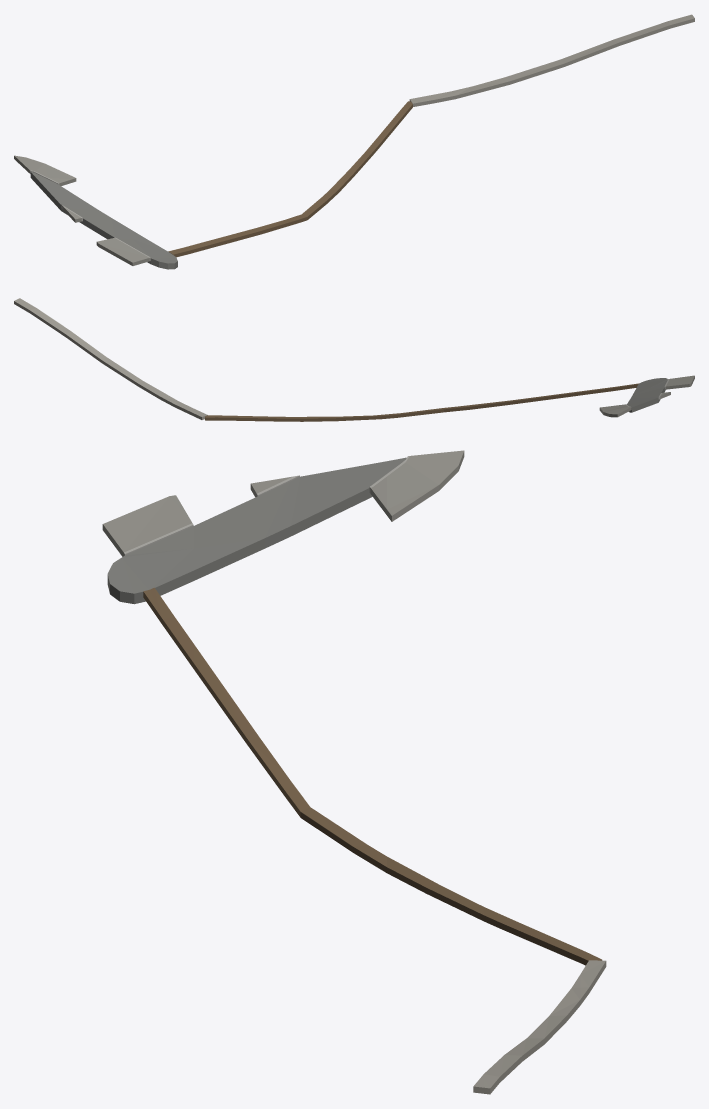
The picture shows the model from 3 angles, top to bottom: view 1: azimuth 30°, elevation 25°; view 2: azimuth 150°, elevation 25°; view 3: azimuth 270°, elevation 25°; orthographic projection. The views are drawn at different scales.
Bounding box in the file's own units: 143 × 18.9 × 52.12.
